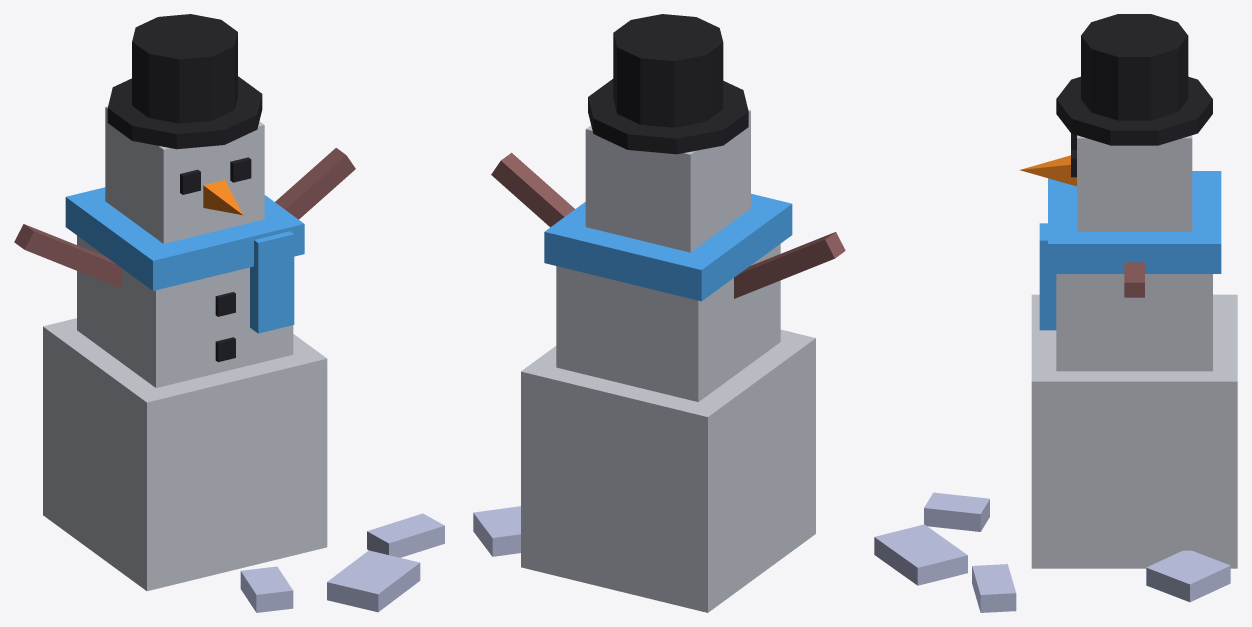
File: Snowman.fbx
The picture shows the model from 3 angles, left to right: view 1: azimuth 30°, elevation 25°; view 2: azimuth 150°, elevation 25°; view 3: azimuth 270°, elevation 25°; orthographic projection. The views are drawn at different scales.
Parts seen in each view (by area): view 1: Snow.003, Coal.002, Ice.001, SnowShade.002, DeadWood.001, Carrot; view 2: Snow.003, Coal.002, Ice.001, DeadWood.001, SnowShade.002; view 3: Snow.003, Coal.002, Ice.001, SnowShade.002, Carrot, DeadWood.001.
Part boxes in pixels (bbox=[...]): Snow.003: bbox=[43, 106, 327, 591]; Coal.002: bbox=[107, 14, 262, 362]; Ice.001: bbox=[65, 187, 304, 333]; SnowShade.002: bbox=[240, 513, 444, 612]; DeadWood.001: bbox=[14, 148, 355, 288]; Carrot: bbox=[203, 180, 242, 214]; Snow.003: bbox=[521, 110, 815, 612]; Coal.002: bbox=[588, 14, 748, 154]; Ice.001: bbox=[544, 193, 792, 301]; DeadWood.001: bbox=[491, 152, 845, 298]; SnowShade.002: bbox=[473, 506, 520, 556]; Snow.003: bbox=[1031, 135, 1237, 568]; Coal.002: bbox=[1056, 14, 1212, 177]; Ice.001: bbox=[1039, 171, 1221, 330]; SnowShade.002: bbox=[874, 492, 1230, 612]; Carrot: bbox=[1019, 155, 1076, 186]; DeadWood.001: bbox=[1124, 262, 1144, 297].
Bounding box in the file's own units: 4.82 × 6.55 × 4.41.
